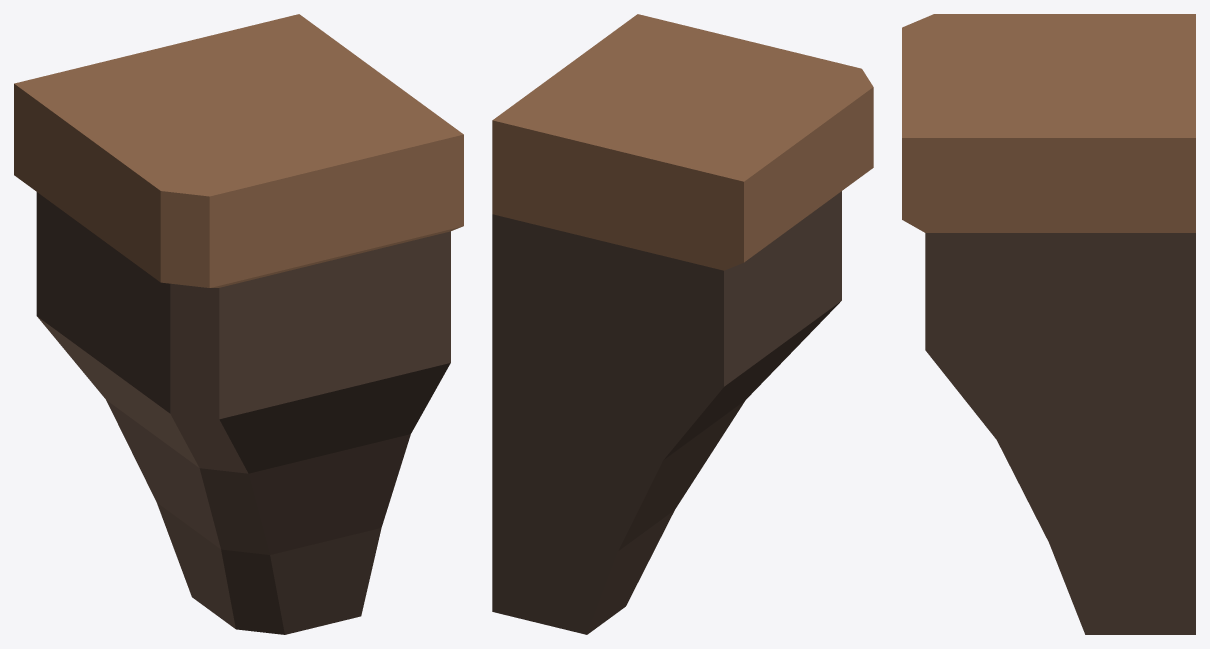
Rendered from corbelled_corner_return.glb.
3 renders of one model, left to right at view 1: azimuth 30°, elevation 25°; view 2: azimuth 150°, elevation 25°; view 3: azimuth 270°, elevation 25°, orthographic. The views are drawn at different scales.
Visible parts, largest first — view 1: Corbelled corner return; view 2: Corbelled corner return; view 3: Corbelled corner return.
Boxes of the visible parts, bbox=[...] form: Corbelled corner return: bbox=[14, 14, 463, 634]; Corbelled corner return: bbox=[492, 14, 873, 634]; Corbelled corner return: bbox=[902, 14, 1195, 634].
Size of the model in its own units: 0.202 by 0.377 by 0.202.
